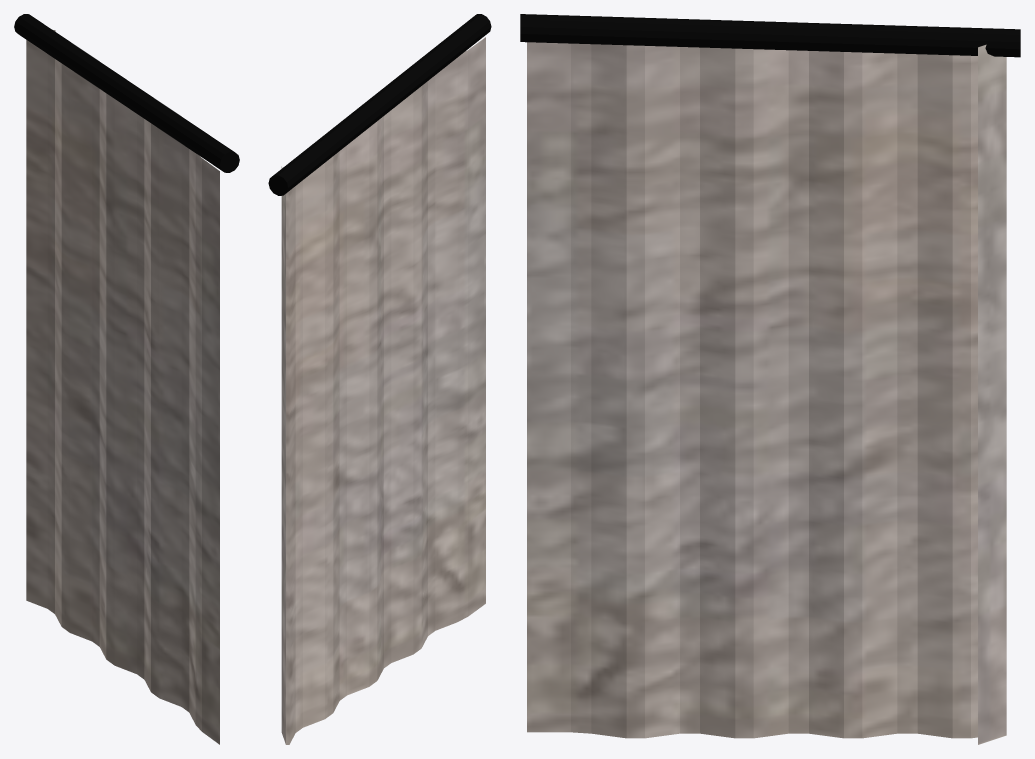
Rendered from TOWEL.glb.
3 views of the same model, side by side, from view 1: azimuth 30°, elevation 25°; view 2: azimuth 150°, elevation 25°; view 3: azimuth 270°, elevation 25° (orthographic). The views are drawn at different scales.
Visible parts, largest first — view 1: towel; view 2: towel; view 3: towel.
Part boxes in pixels (<box>): towel: <box>14,14,239,744</box>; towel: <box>268,14,491,744</box>; towel: <box>520,14,1020,744</box>.
Bounding box in the file's own units: 0.1184 × 2.78 × 1.75.
Materials: 2 (1 with a texture image).
